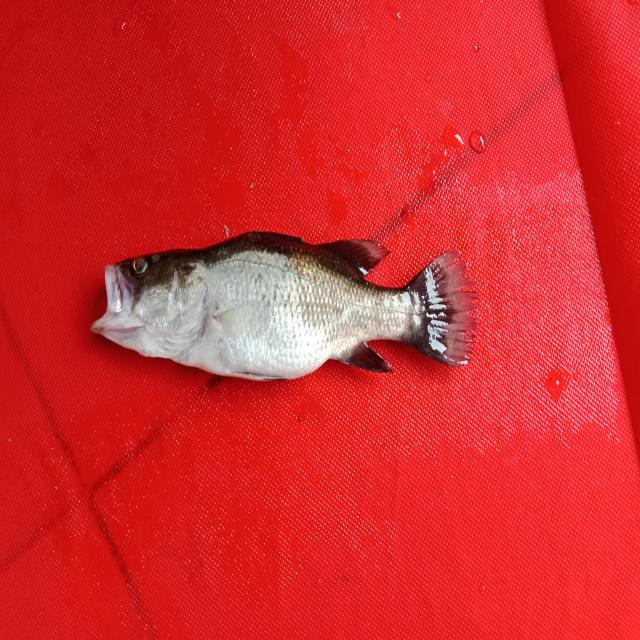ikan: (84, 218, 492, 400)
